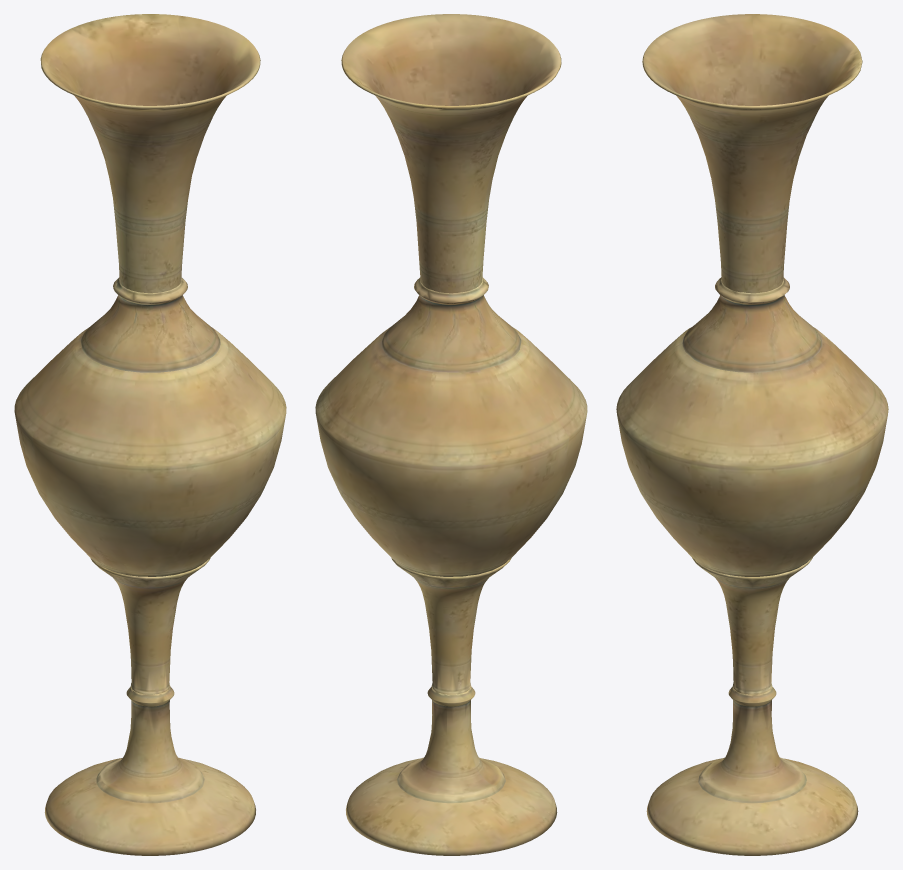
Rendered from brass_vase_01.glb.
3 renders of one model, left to right at view 1: azimuth 30°, elevation 25°; view 2: azimuth 150°, elevation 25°; view 3: azimuth 270°, elevation 25°, orthographic.
Parts seen in each view (by area): view 1: brass_vase_01; view 2: brass_vase_01; view 3: brass_vase_01.
Boxes of the visible parts, bbox=[...] form: brass_vase_01: bbox=[14, 14, 286, 855]; brass_vase_01: bbox=[315, 14, 587, 855]; brass_vase_01: bbox=[616, 14, 888, 855].
Bounding box in the file's own units: 0.2272 × 0.6925 × 0.2272.
1 material, 1 textured.
